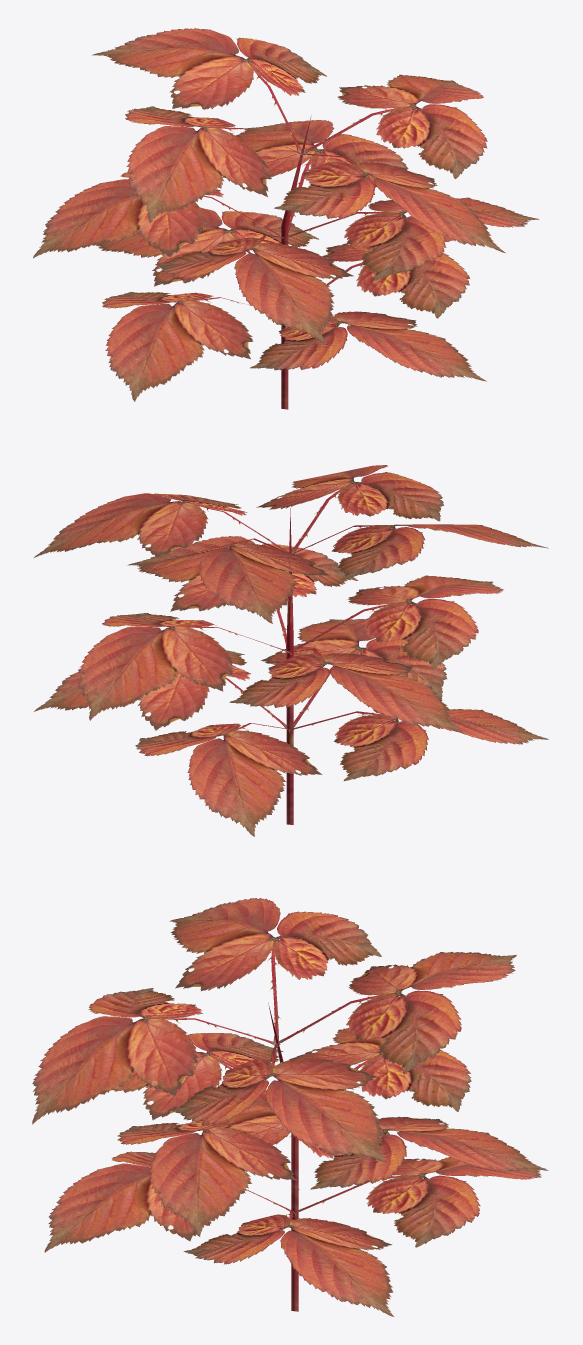
Rendered from plant_002.dae.
3 views of the same model, one above another, from view 1: azimuth 30°, elevation 25°; view 2: azimuth 150°, elevation 25°; view 3: azimuth 270°, elevation 25° (orthographic). The views are drawn at different scales.
Visible parts, largest first — view 1: Plant_002; view 2: Plant_002; view 3: Plant_002.
Part boxes in pixels (bbox=[...]): Plant_002: bbox=[33, 28, 539, 409]; Plant_002: bbox=[34, 465, 548, 836]; Plant_002: bbox=[32, 898, 548, 1316].
Bounding box in the file's own units: 2.6 × 1.75 × 2.62.
